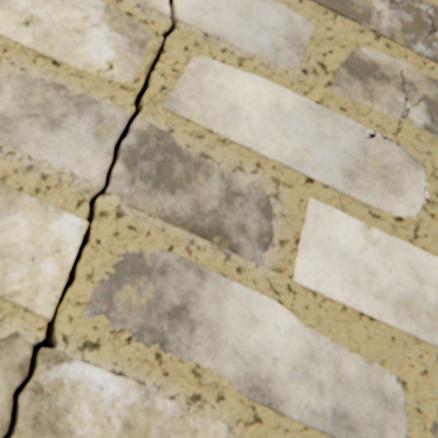brick: (83, 246, 404, 437), (163, 57, 426, 218), (293, 198, 437, 346), (0, 0, 151, 83), (0, 181, 87, 317), (331, 47, 437, 139), (307, 0, 437, 63), (429, 419, 437, 437)
broken_brick: (108, 118, 272, 265), (13, 347, 226, 437), (0, 74, 128, 188), (175, 0, 312, 69), (0, 333, 32, 437), (132, 0, 169, 16)
crack: (1, 0, 177, 437), (400, 87, 424, 118), (424, 4, 435, 38), (384, 0, 403, 11), (365, 131, 374, 138), (399, 70, 402, 85), (380, 134, 386, 139)
